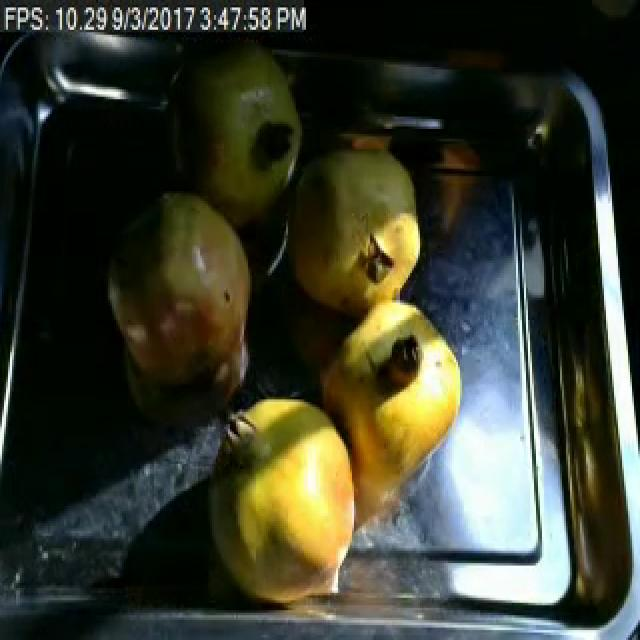fruit: (88, 172, 272, 404), (200, 377, 372, 613), (270, 129, 430, 325), (310, 283, 468, 476)
